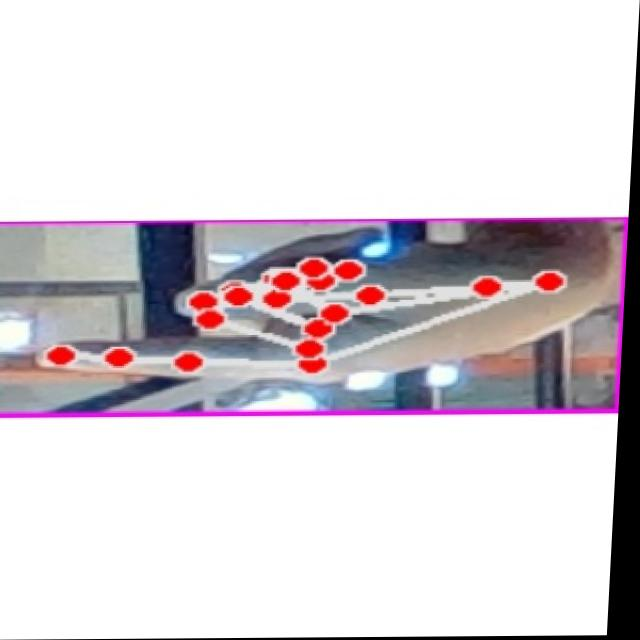G: (22, 236, 613, 398)
